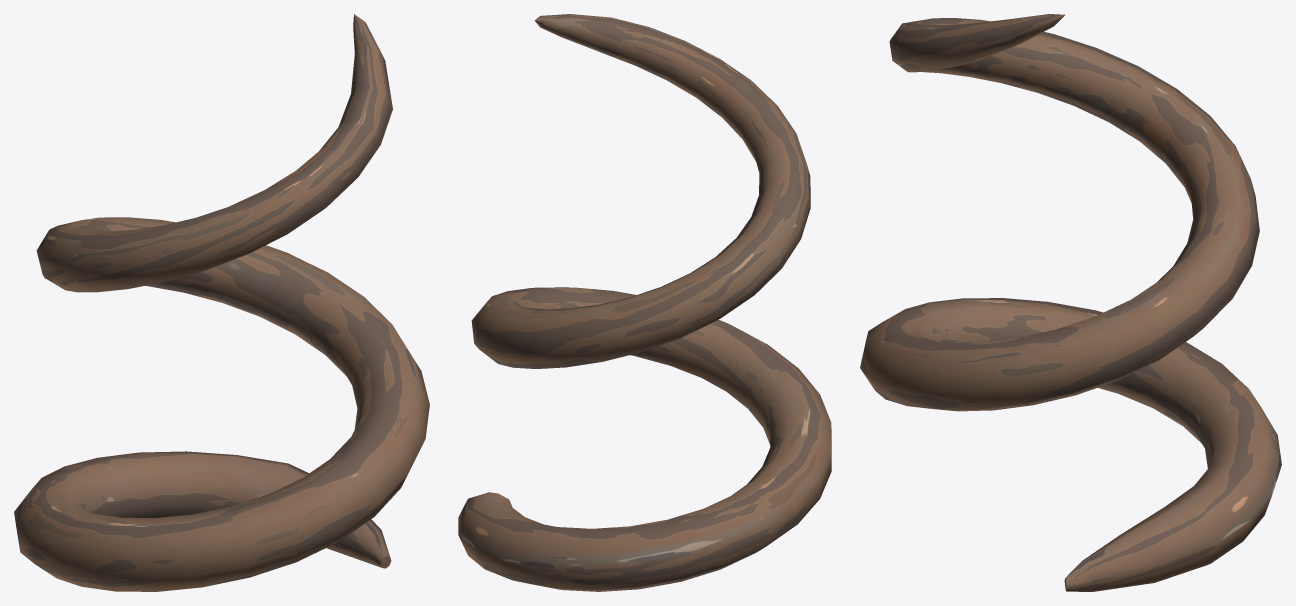
Rendered from teki_vine.fbx.
3 renders of one model, left to right at view 1: azimuth 30°, elevation 25°; view 2: azimuth 150°, elevation 25°; view 3: azimuth 270°, elevation 25°, orthographic. The views are drawn at different scales.
Visible parts, largest first — view 1: CHFX_VINE; view 2: CHFX_VINE; view 3: CHFX_VINE.
Part boxes in pixels (x1,y1,x2,y2): CHFX_VINE: (14, 14, 429, 591); CHFX_VINE: (458, 14, 831, 591); CHFX_VINE: (860, 14, 1281, 591).
Bounding box in the file's own units: 65.23 × 98.77 × 67.18.
Materials: 1 (1 with a texture image).
